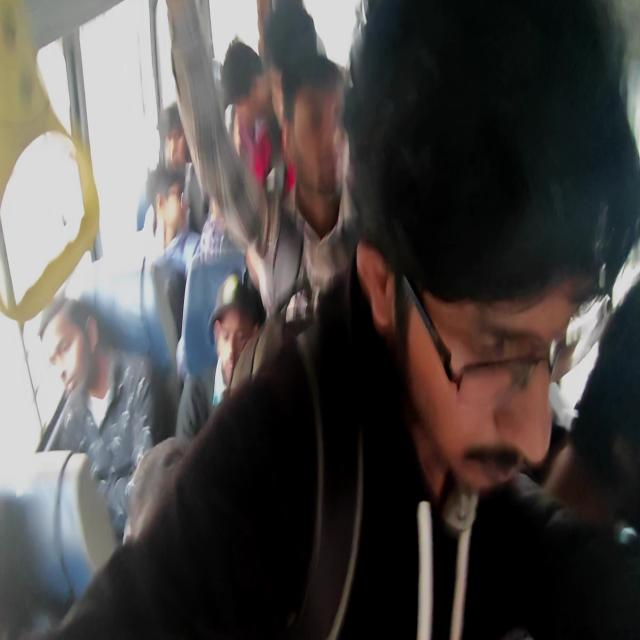person: (407, 252, 578, 510), (283, 54, 350, 210), (221, 35, 279, 194), (0, 487, 62, 616), (210, 272, 261, 398), (46, 311, 92, 399), (143, 177, 190, 249), (158, 100, 192, 177), (242, 267, 250, 290)
